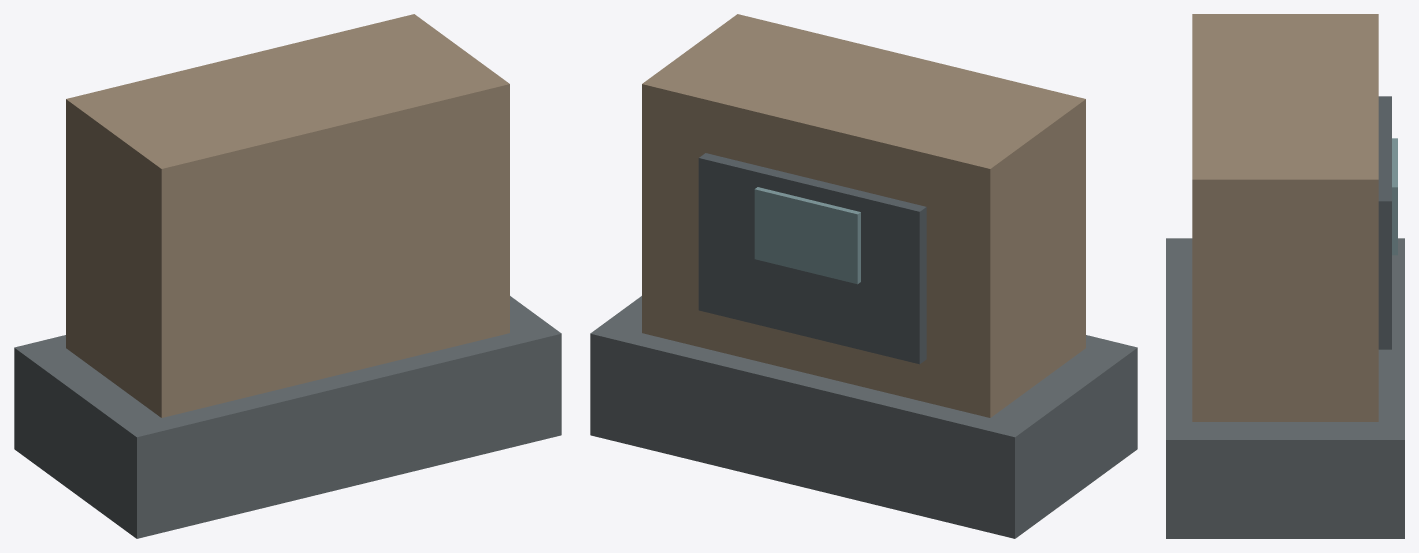
File: iz3_military_radio_02.glb
3 views of the same model, side by side, from view 1: azimuth 30°, elevation 25°; view 2: azimuth 150°, elevation 25°; view 3: azimuth 270°, elevation 25° (orthographic). The views are drawn at different scales.
Parts seen in each view (by area): view 1: cabinet, base; view 2: cabinet, base, panel, display; view 3: cabinet, base, panel, display.
Part boxes in pixels (x1,y1,x2,y2): cabinet: (66,14,509,417); base: (14,296,561,538); cabinet: (642,14,1085,417); base: (590,296,1137,538); panel: (698,153,926,364); display: (754,187,860,284); cabinet: (1192,14,1378,421); base: (1166,238,1404,538); panel: (1378,96,1391,349); display: (1392,138,1397,255).
Bounding box in the file's own units: 1.4 × 1.1 × 0.7.
